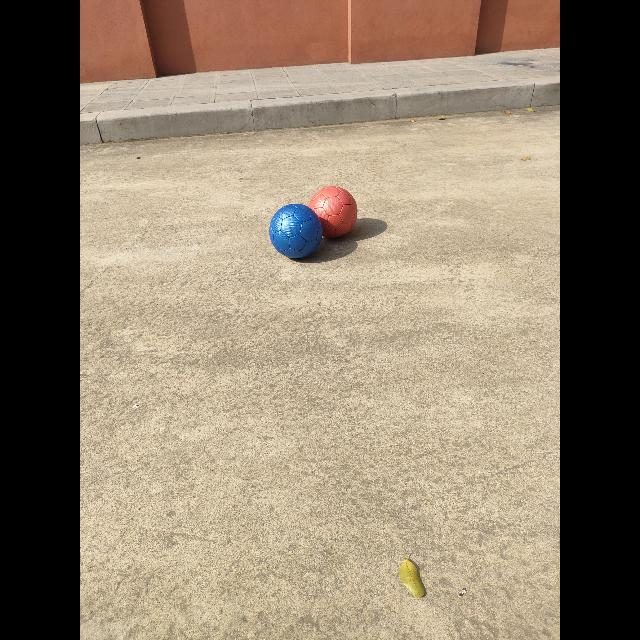B: (270, 204, 322, 259)
R: (309, 186, 358, 238)
